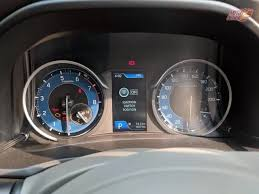Digital_Meter: (110, 120, 149, 132)
